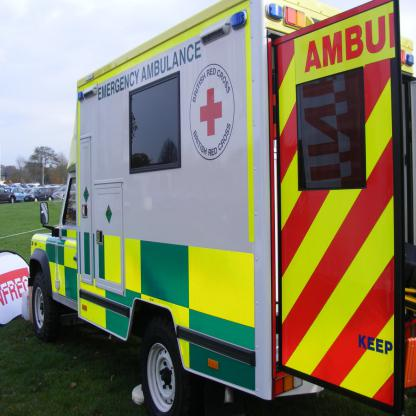Ambulance: (26, 0, 416, 416)
